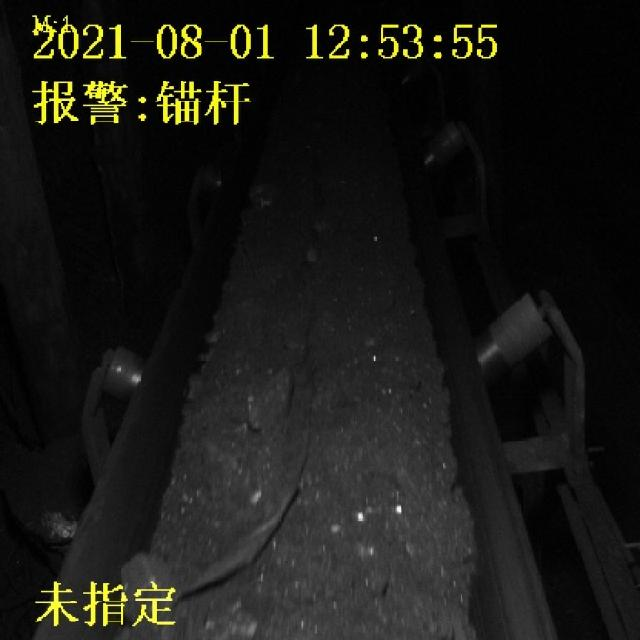Other_garbage: (185, 475, 308, 600)
large_sized_coal: (242, 368, 288, 426)
